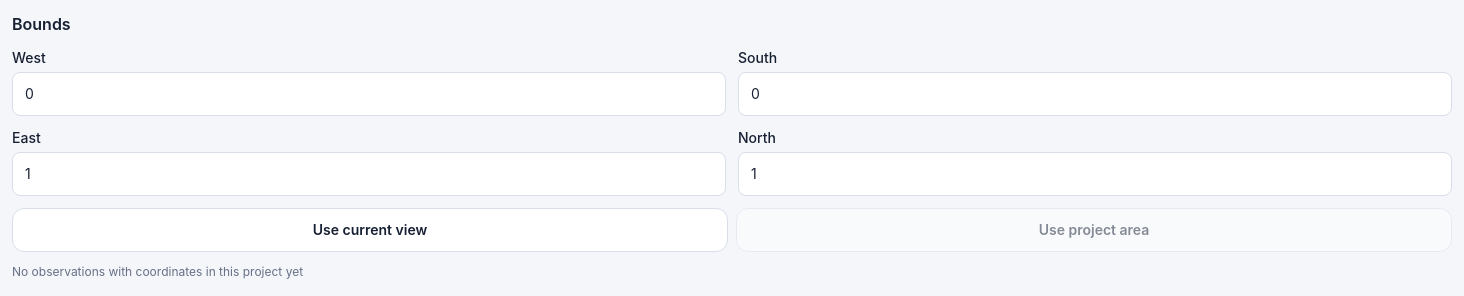
Test: BoundsEditor › uses the current map view bounds from MapRef
Click the button "Use current view" at (370, 230), box [12,208,728,252]
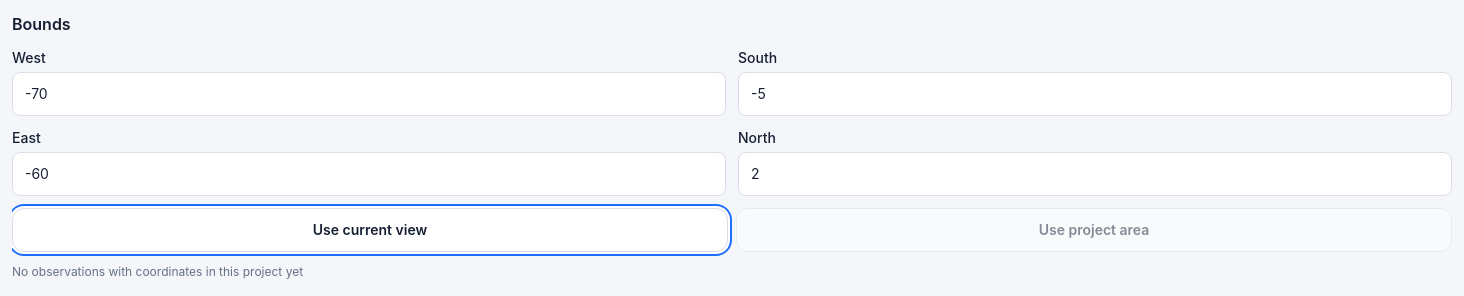
expect the number field labelled "West" holds "-70": met, box [12,72,726,116]
expect the number field labelled "South" holds "-5": met, box [738,72,1452,116]
expect the number field labelled "East" holds "-60": met, box [12,152,726,196]
